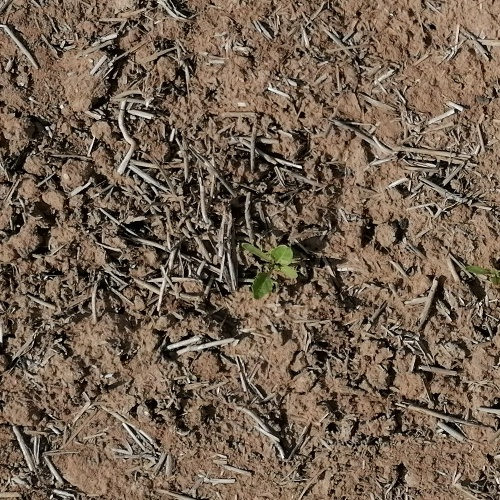beet: (241, 243, 295, 299), (464, 267, 500, 286)
